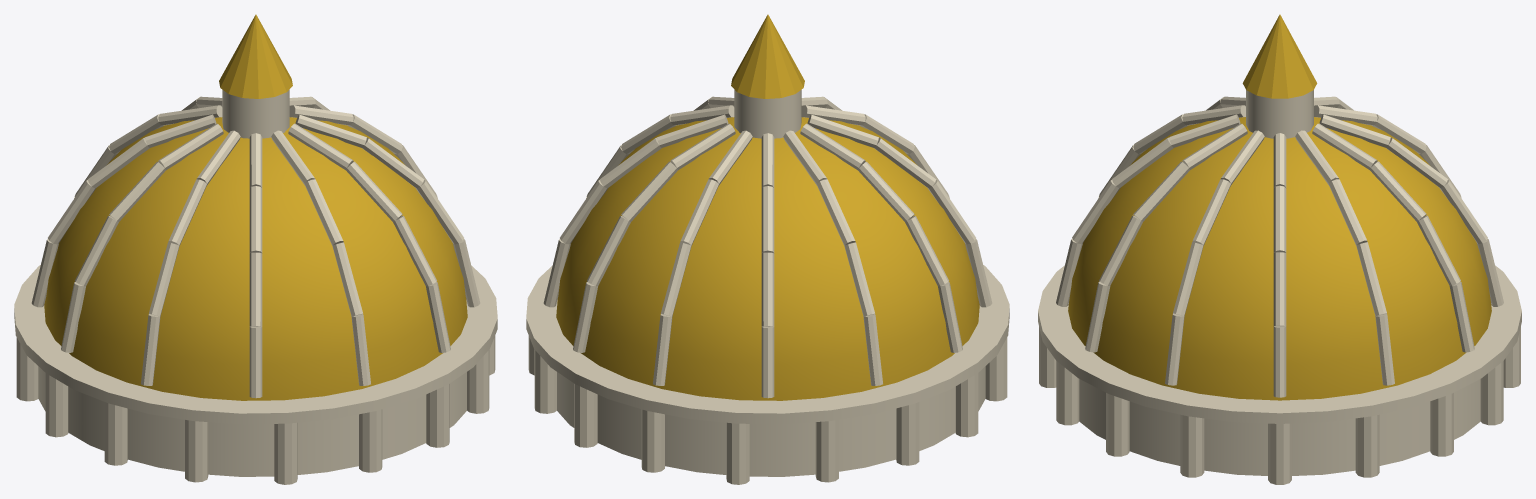
Rendered from dome.glb.
3 views of the same model, side by side, from view 1: azimuth 30°, elevation 25°; view 2: azimuth 150°, elevation 25°; view 3: azimuth 270°, elevation 25° (orthographic).
Visible parts, largest first — view 1: part-dome-gold, part-hall-stone; view 2: part-dome-gold, part-hall-stone; view 3: part-dome-gold, part-hall-stone.
Boxes of the visible parts, x1,y1,x2,y2 form: part-dome-gold: (44, 14, 467, 400); part-hall-stone: (14, 89, 497, 484); part-dome-gold: (556, 14, 979, 400); part-hall-stone: (526, 89, 1009, 484); part-dome-gold: (1068, 14, 1491, 400); part-hall-stone: (1038, 90, 1521, 484).
Bounding box in the file's own units: 57 × 48 × 57.
